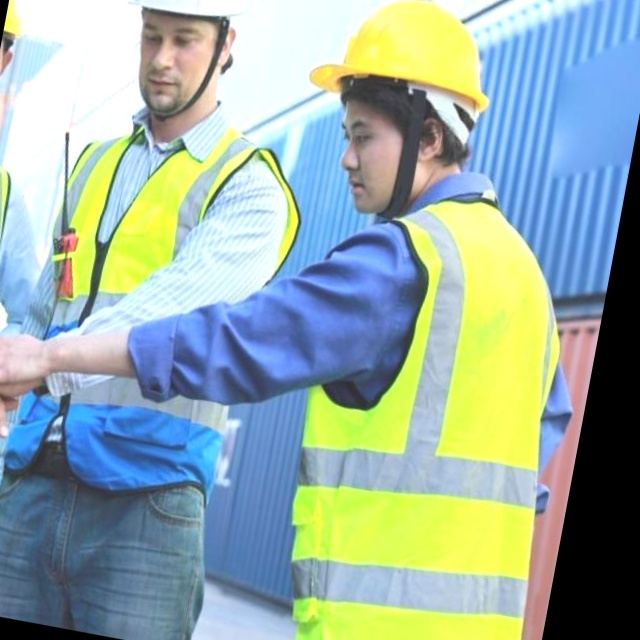Con_Casco: (291, 0, 503, 228), (107, 0, 257, 126)
Con_Chaleco: (258, 181, 590, 640), (0, 104, 298, 503)
